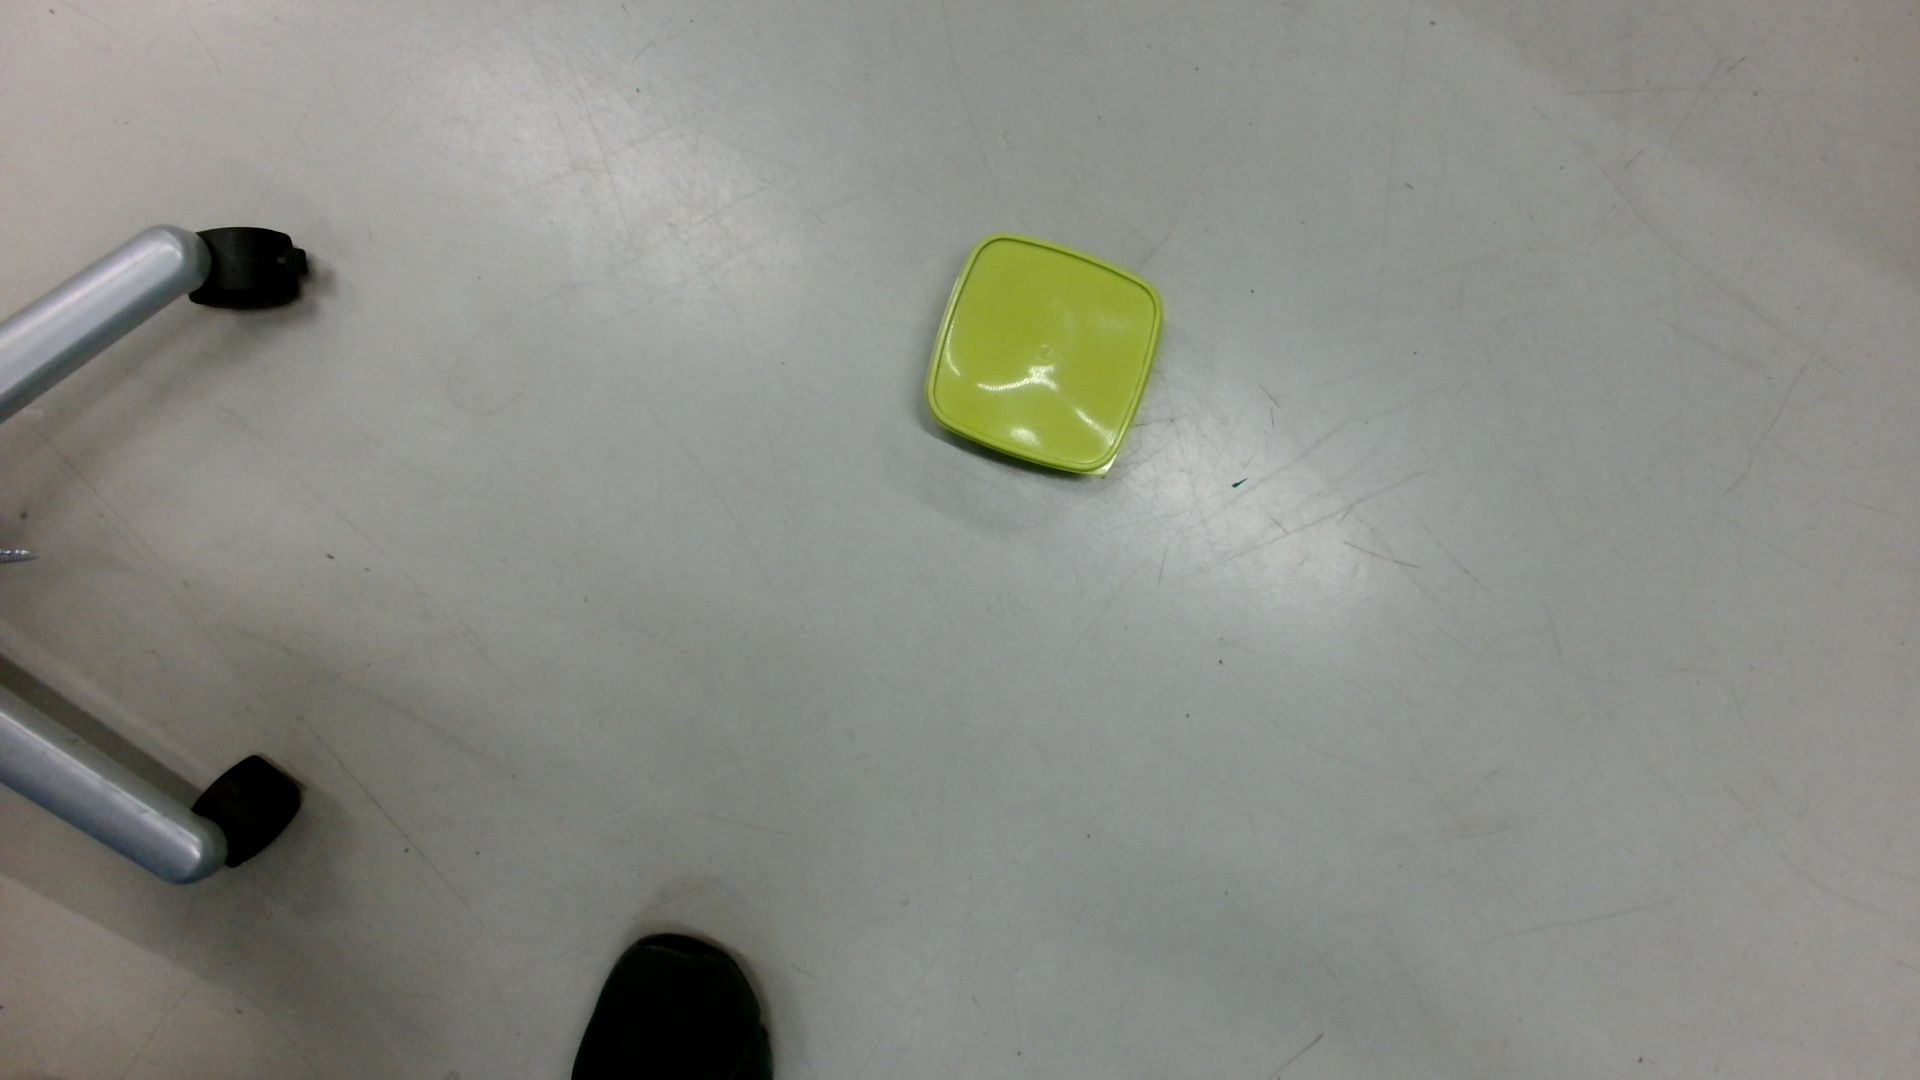Box: (919, 229, 1170, 485)
